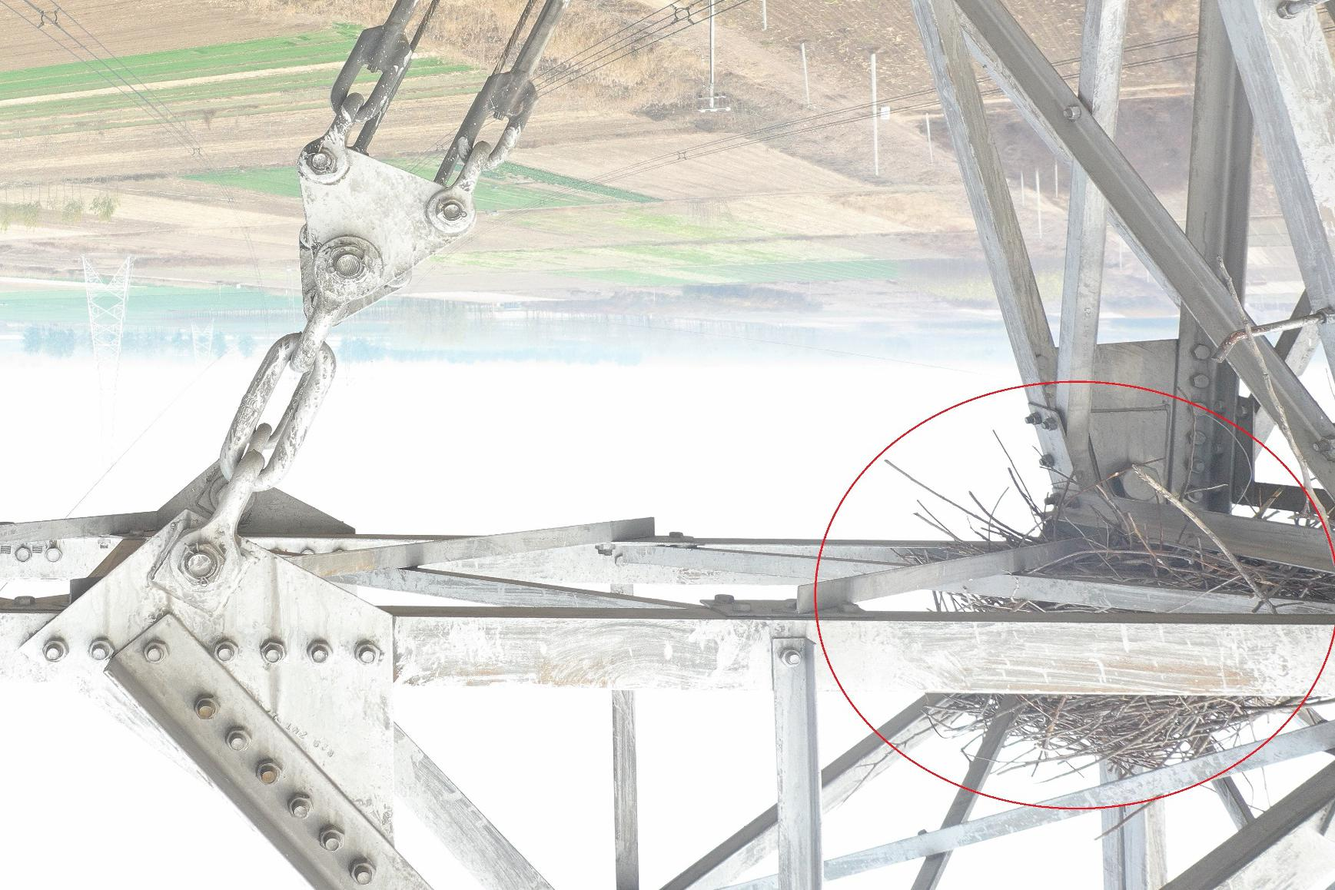nest: (885, 460, 1313, 784)
